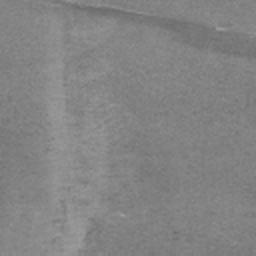Finishing roll printing: (54, 0, 256, 60)
